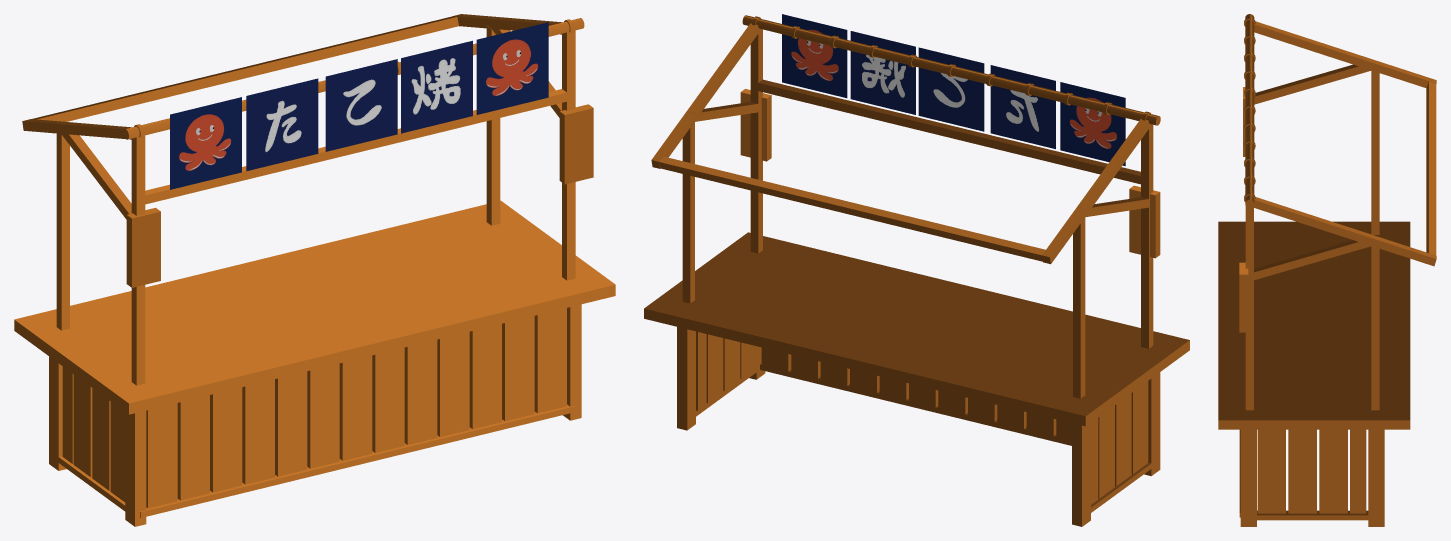
Rendered from Stroller.fbx.
3 renders of one model, left to right at view 1: azimuth 30°, elevation 25°; view 2: azimuth 150°, elevation 25°; view 3: azimuth 270°, elevation 25°, orthographic. The views are drawn at different scales.
Parts seen in each view (by area): view 1: 立方体.004, 画报.004, 画报.005, 画报.003, 画报.002, 画报.001, 立方体.011, 立方体.010; view 2: 立方体.004, 画报.005, 画报.004, 画报.001, 画报.003, 画报.002, 立方体.010, 立方体.011; view 3: 立方体.004, 立方体.011.
Boxes of the visible parts, <box> form: 立方体.004: <box>14,14,615,526</box>; 画报.004: <box>246,78,318,171</box>; 画报.005: <box>325,59,397,151</box>; 画报.003: <box>476,22,548,114</box>; 画报.002: <box>170,97,241,189</box>; 画报.001: <box>401,40,472,133</box>; 立方体.011: <box>559,104,593,184</box>; 立方体.010: <box>126,207,160,287</box>; 立方体.004: <box>644,15,1189,526</box>; 画报.005: <box>918,47,984,131</box>; 画报.004: <box>990,65,1055,149</box>; 画报.001: <box>850,31,915,114</box>; 画报.003: <box>782,14,847,98</box>; 画报.002: <box>1060,82,1125,166</box>; 立方体.010: <box>1129,185,1160,258</box>; 立方体.011: <box>740,89,771,161</box>; 立方体.004: <box>1218,14,1436,526</box>; 立方体.011: <box>1239,262,1248,332</box>.
Bounding box in the file's own units: 378 × 176 × 299.
Materials: 6 (5 with a texture image).
